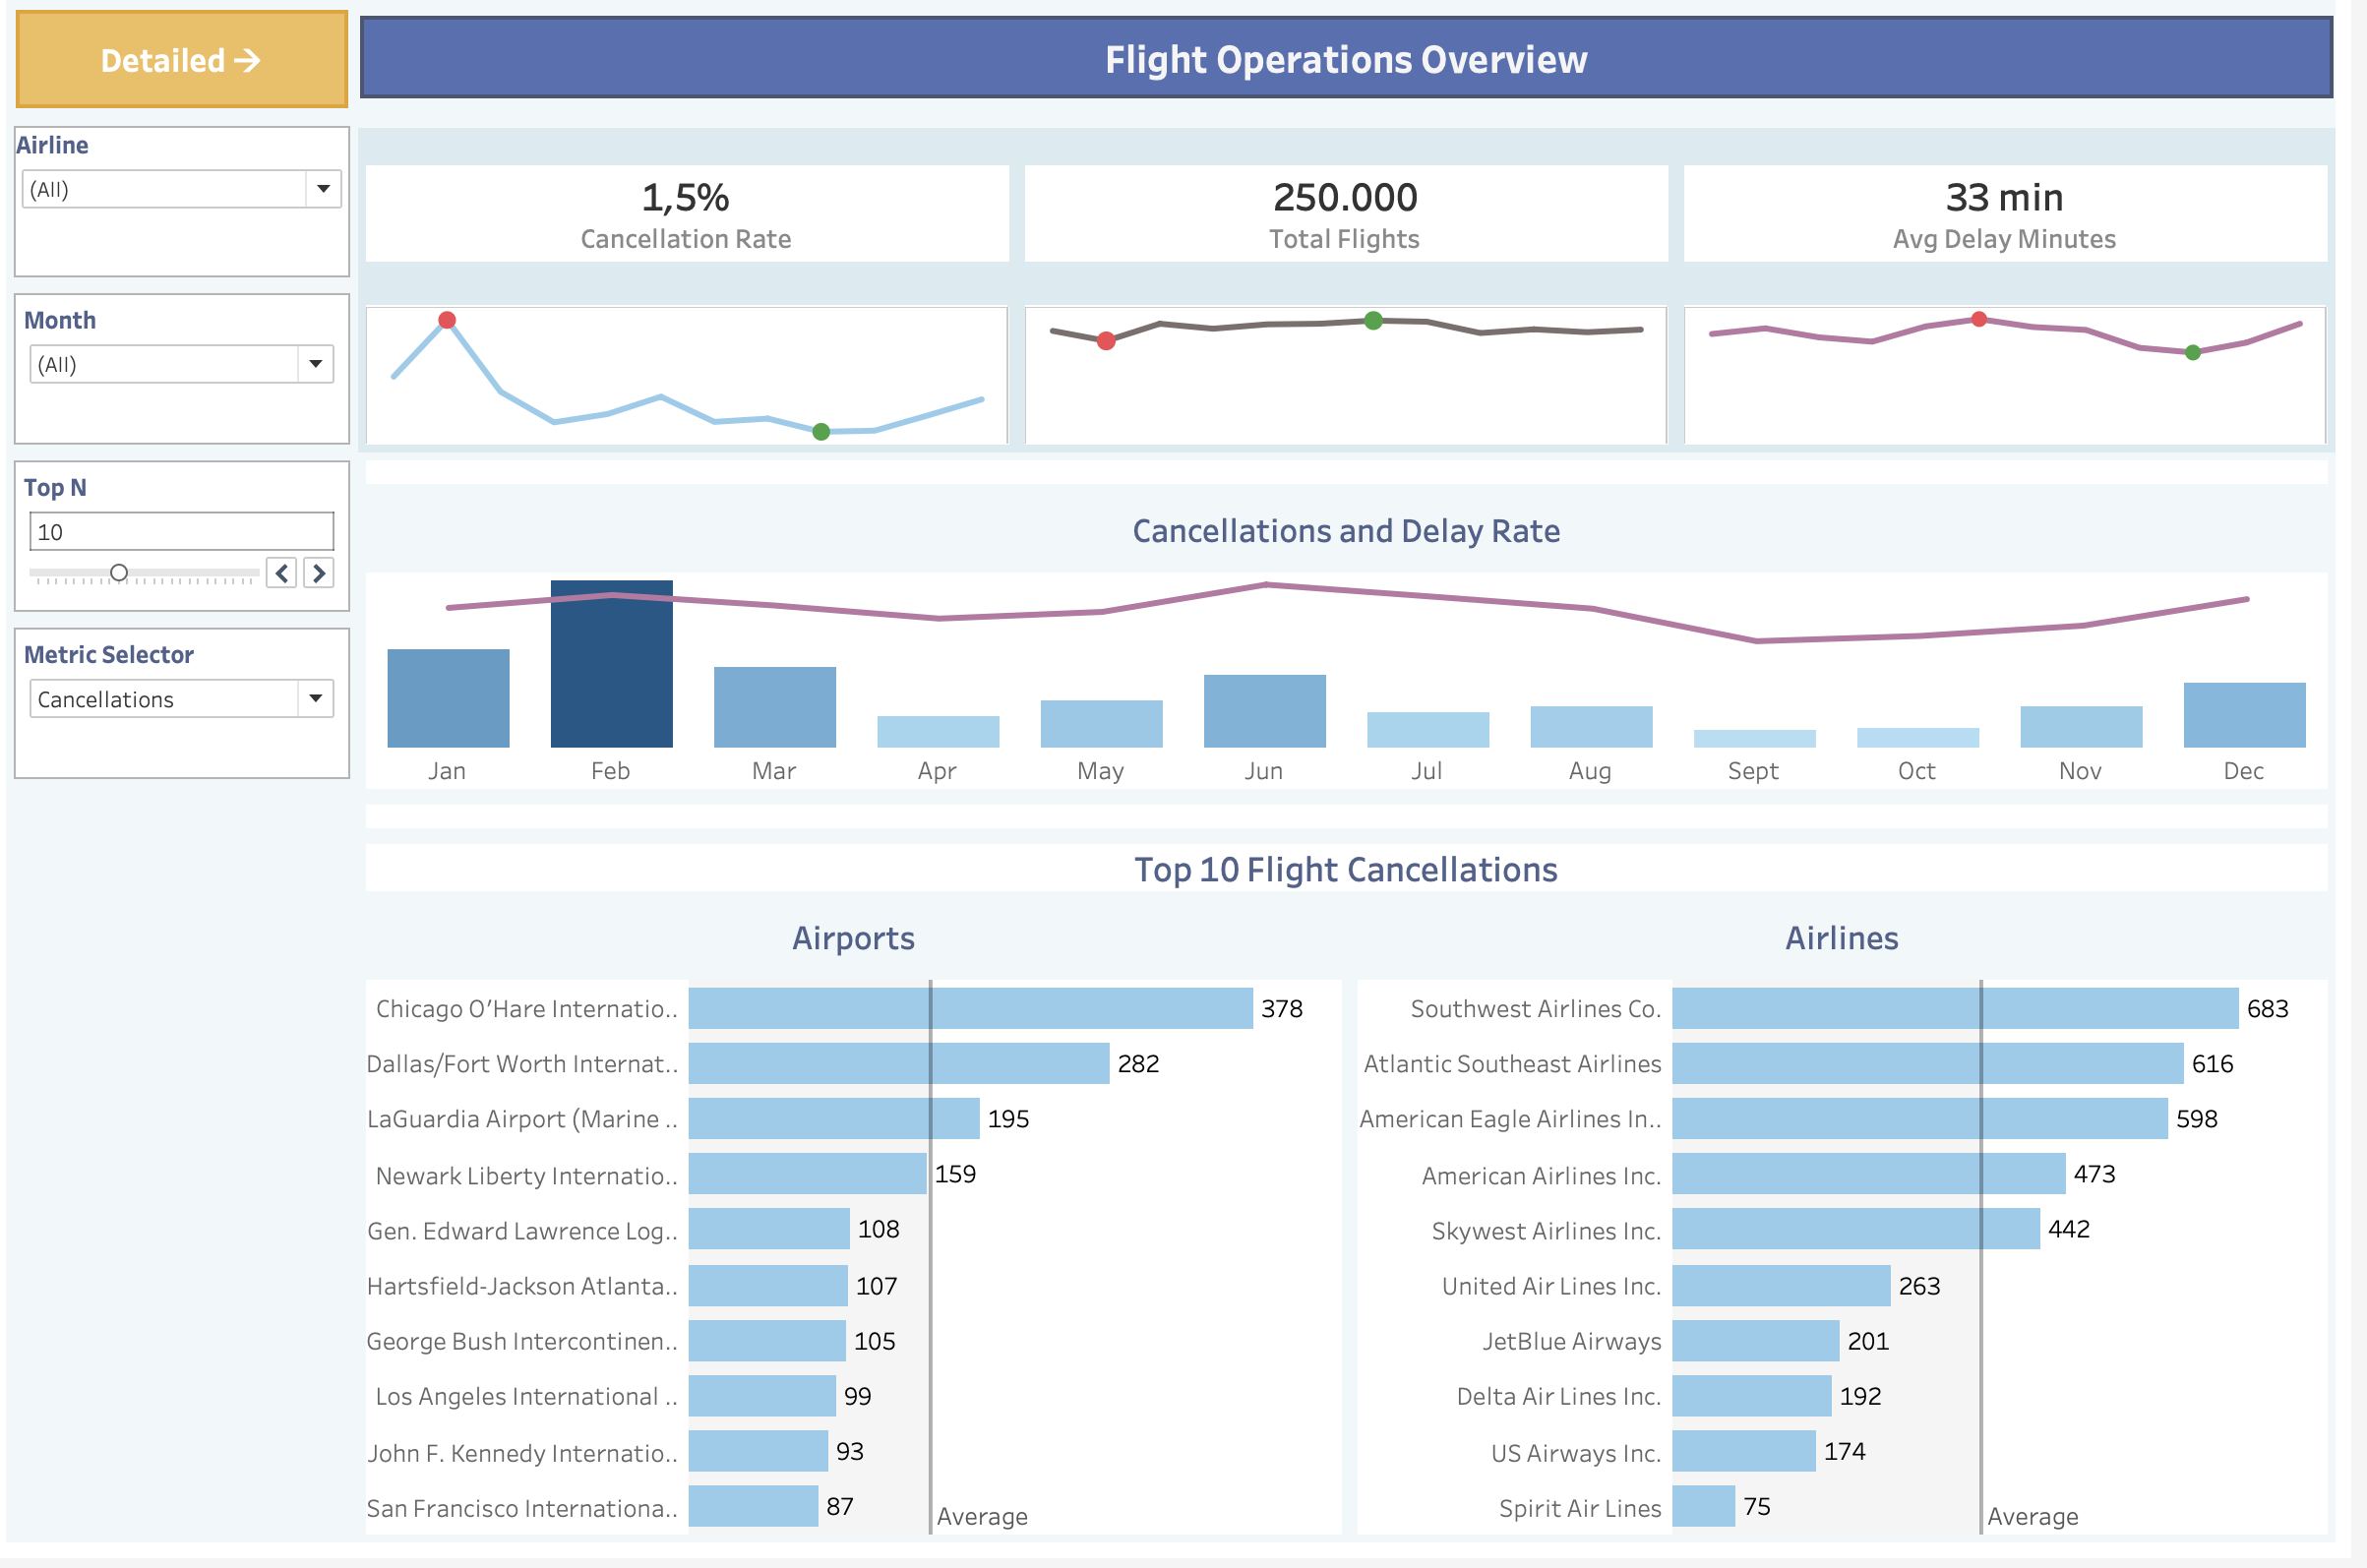

The page's visual inventory and layout, read from the dashboard file:
{"tool":"tableau","page":{"name":"Flight Operations Overview","canvas":[1200,800],"ordinal":1},"visuals":[{"type":"dashboard-object","box":[8,8,179,60]},{"type":"text","box":[187,8,1005,58]},{"type":"filter","title":"Top Airlines by Flight Cancellations","param":"[federated.05kc2sh028xoru1cdzixz0vf0ub7].[none:AIRLINE:nk]","box":[8,68,179,85]},{"type":"worksheet","title":"KPI Cancellation Rate","mark":"Automatic","box":[187,73,335,72.1]},{"type":"worksheet","title":"KPI Total Flights","mark":"Automatic","box":[522,73,335,72.1]},{"type":"worksheet","title":"KPI Avg Delay","mark":"Automatic","box":[857,73,335,72.1]},{"type":"worksheet","title":"Spark Cancellation Rate","mark":"Automatic","rows":["Calculation_4661222750756871"],"cols":["Calculation_4661222750040066"],"box":[187,145.1,335,92.9]},{"type":"worksheet","title":"Spark Total Flights","mark":"Automatic","rows":["Calculation_4661222751137802"],"cols":["Calculation_4661222750040066"],"box":[522,145.1,335,92.9]},{"type":"worksheet","title":"Spark Avg Delay","mark":"Automatic","rows":["Calculation_4661222751010825"],"cols":["Calculation_4661222750040066"],"box":[857,145.1,335,92.9]},{"type":"filter","title":"Timeline","param":"[federated.05kc2sh028xoru1cdzixz0vf0ub7].[mn:Calculation_4661222750040066:ok]","box":[8,153,179,85]},{"type":"parameter","param":"[Parameters].[Parameter 2]","box":[8,238,179,85]},{"type":"blank","box":[187,238,1005,20]},{"type":"worksheet","title":"Timeline","mark":"Bar","rows":["Calculation_4661222750498821","Calculation_4661222750867464"],"cols":["Calculation_4661222750040066"],"box":[187,258,1005,155]},{"type":"parameter","param":"[Parameters].[Parameter 1]","box":[8,323,179,85]},{"type":"blank","box":[187,413,1005,20]},{"type":"text","box":[187,433,1005,32]},{"type":"worksheet","title":"Top Airports by Flight Cancellations","mark":"Bar","rows":["AIRPORT (airports.csv)"],"cols":["Calculation_4661222751510539"],"box":[187,465,504.5,327]},{"type":"worksheet","title":"Top Airlines by Flight Cancellations","mark":"Bar","rows":["AIRLINE"],"cols":["Calculation_4661222751510539"],"box":[691.5,465,500.5,327]}]}

Visuals, with their boxes in screenshot pixels (x1, y1, x2, y2), scaled from the page's 1200x800 canvas onto the 2367x1568 screenshot:
dashboard-object: x1=16, y1=16, x2=369, y2=133
text: x1=369, y1=16, x2=2351, y2=130
"Top Airlines by Flight Cancellations" filter: x1=16, y1=133, x2=369, y2=300
"KPI Cancellation Rate" worksheet: x1=369, y1=143, x2=1030, y2=284
"KPI Total Flights" worksheet: x1=1030, y1=143, x2=1690, y2=284
"KPI Avg Delay" worksheet: x1=1690, y1=143, x2=2351, y2=284
"Spark Cancellation Rate" worksheet: x1=369, y1=284, x2=1030, y2=466
"Spark Total Flights" worksheet: x1=1030, y1=284, x2=1690, y2=466
"Spark Avg Delay" worksheet: x1=1690, y1=284, x2=2351, y2=466
"Timeline" filter: x1=16, y1=300, x2=369, y2=466
parameter: x1=16, y1=466, x2=369, y2=633
blank: x1=369, y1=466, x2=2351, y2=506
"Timeline" worksheet (Bar marks): x1=369, y1=506, x2=2351, y2=810
parameter: x1=16, y1=633, x2=369, y2=800
blank: x1=369, y1=810, x2=2351, y2=849
text: x1=369, y1=849, x2=2351, y2=912
"Top Airports by Flight Cancellations" worksheet (Bar marks): x1=369, y1=912, x2=1364, y2=1552
"Top Airlines by Flight Cancellations" worksheet (Bar marks): x1=1364, y1=912, x2=2351, y2=1552
